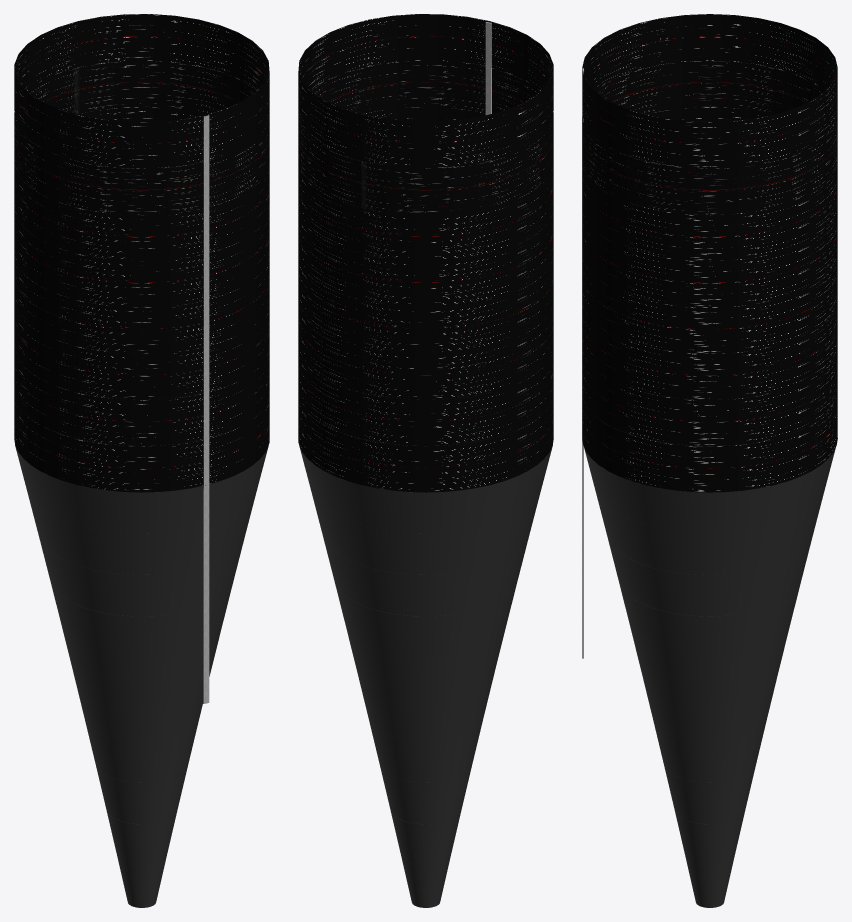
The model's file is WindTunnel.FBX.
3 renders of one model, left to right at view 1: azimuth 30°, elevation 25°; view 2: azimuth 150°, elevation 25°; view 3: azimuth 270°, elevation 25°, orthographic.
Visible parts, largest first — view 1: walls14, walls04, walls03, walls, walls08, walls06, walls01, walls02, walls05, wallbox; view 2: walls14, walls04, walls03, walls, walls08, walls06, walls02, walls05, walls01, wallbox; view 3: walls14, walls04, walls03, walls, walls01, walls08, walls02, walls05, walls06, wallbox.
Part boxes in pixels (x1=…): walls14: x1=15, y1=396, x2=269, y2=907; walls04: x1=14, y1=14, x2=269, y2=167; walls03: x1=14, y1=60, x2=269, y2=214; walls: x1=14, y1=106, x2=269, y2=260; walls08: x1=14, y1=300, x2=269, y2=445; walls06: x1=14, y1=383, x2=269, y2=492; walls01: x1=14, y1=160, x2=269, y2=306; walls02: x1=14, y1=255, x2=269, y2=353; walls05: x1=14, y1=277, x2=269, y2=399; wallbox: x1=203, y1=115, x2=209, y2=703; walls14: x1=298, y1=396, x2=552, y2=907; walls04: x1=298, y1=14, x2=553, y2=167; walls03: x1=298, y1=60, x2=553, y2=214; walls: x1=298, y1=106, x2=553, y2=260; walls08: x1=298, y1=300, x2=553, y2=445; walls06: x1=298, y1=383, x2=553, y2=492; walls02: x1=298, y1=255, x2=553, y2=353; walls05: x1=298, y1=277, x2=553, y2=399; walls01: x1=298, y1=161, x2=553, y2=306; wallbox: x1=485, y1=22, x2=491, y2=300; walls14: x1=584, y1=395, x2=837, y2=907; walls04: x1=582, y1=14, x2=837, y2=168; walls03: x1=582, y1=60, x2=837, y2=214; walls: x1=582, y1=106, x2=837, y2=260; walls01: x1=582, y1=160, x2=837, y2=306; walls08: x1=582, y1=300, x2=837, y2=445; walls02: x1=582, y1=255, x2=837, y2=353; walls05: x1=582, y1=286, x2=837, y2=399; walls06: x1=582, y1=394, x2=837, y2=492; wallbox: x1=582, y1=68, x2=583, y2=658.
Size of the model in its own units: 25056 by 90088 by 25056.
